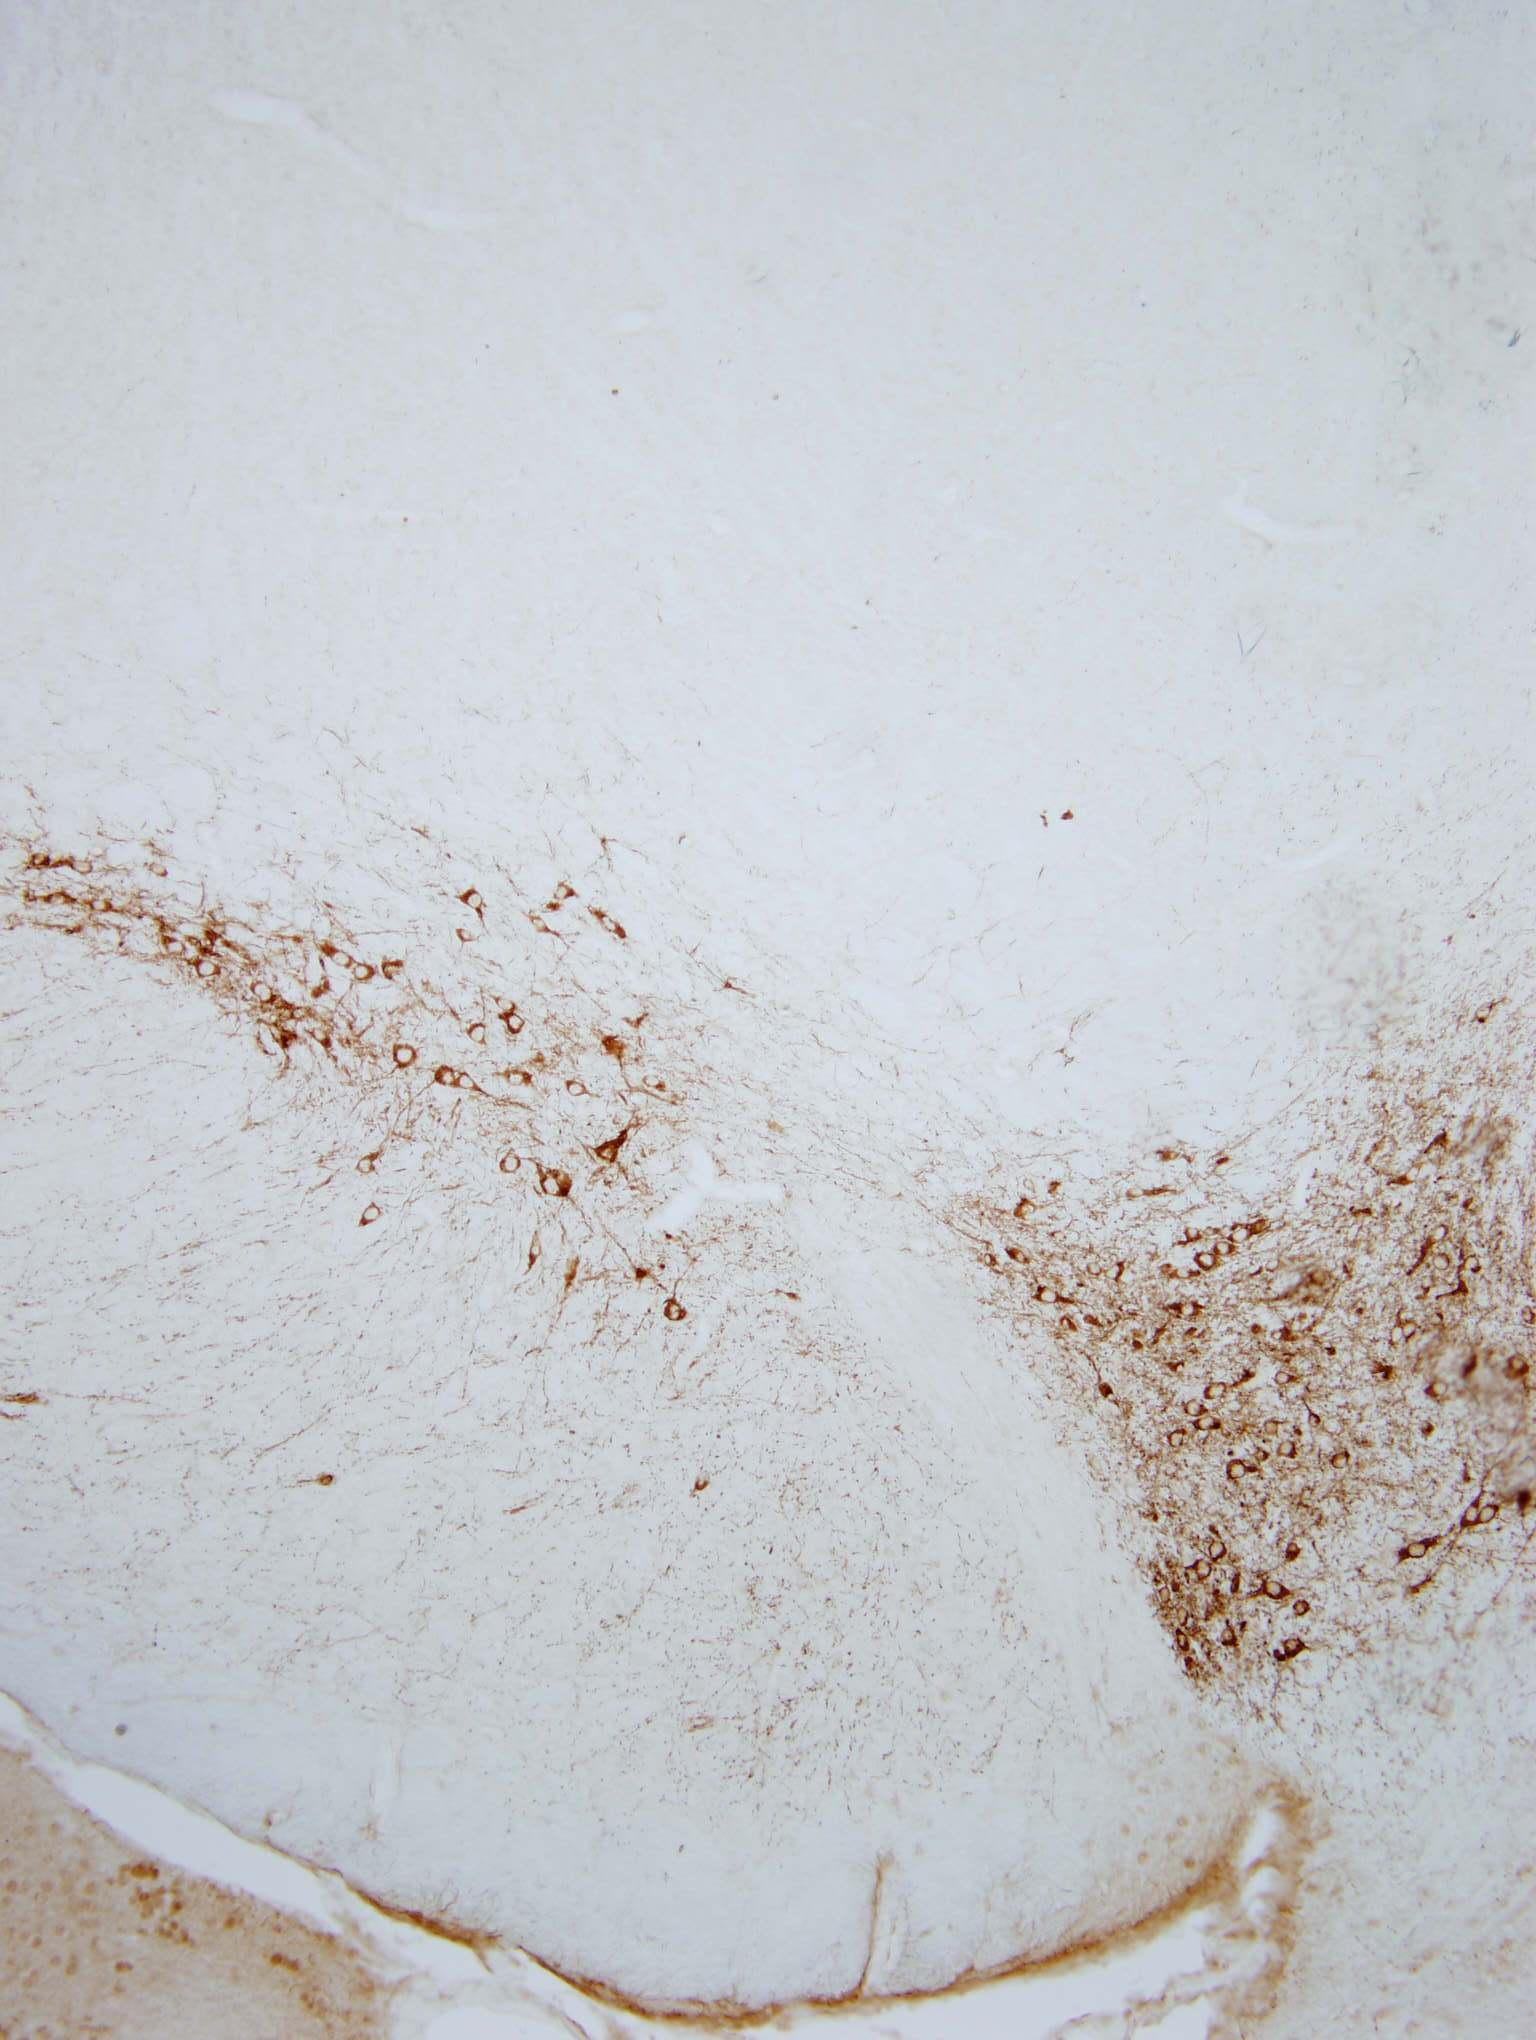neuron: (1008, 1189, 1046, 1226), (1400, 1530, 1438, 1567), (1455, 1247, 1492, 1284), (349, 955, 386, 992), (387, 1035, 424, 1072), (487, 989, 524, 1026), (1176, 1392, 1213, 1427), (1187, 1243, 1225, 1279), (1208, 1230, 1244, 1268), (1257, 1572, 1292, 1609), (1321, 1443, 1359, 1479), (1392, 1161, 1430, 1197), (1421, 1214, 1459, 1250), (1475, 1500, 1512, 1535), (157, 930, 192, 968), (349, 1147, 384, 1184), (453, 1064, 489, 1101), (461, 1014, 497, 1051), (499, 1010, 534, 1047), (520, 1234, 555, 1271), (526, 905, 561, 942), (591, 906, 628, 942), (69, 848, 105, 885), (1002, 1239, 1037, 1274), (1033, 1279, 1068, 1314), (1162, 1421, 1197, 1456), (1170, 1290, 1205, 1326), (1194, 1411, 1229, 1447), (1204, 1377, 1239, 1413), (1212, 1619, 1247, 1655), (1223, 1455, 1258, 1490), (1228, 1219, 1263, 1255), (1268, 1363, 1304, 1398), (1273, 1630, 1309, 1666), (1421, 1371, 1457, 1406), (1450, 1498, 1486, 1534), (1470, 995, 1505, 1030), (190, 951, 226, 987), (248, 974, 284, 1010), (324, 942, 360, 977), (353, 1197, 389, 1232), (40, 884, 76, 919), (431, 1061, 466, 1097), (457, 884, 492, 919), (494, 1145, 529, 1180), (500, 1063, 536, 1098), (537, 1168, 573, 1203), (561, 1071, 597, 1106), (591, 1135, 626, 1171), (658, 1297, 694, 1332), (82, 889, 118, 924), (1079, 1258, 1104, 1282), (1105, 1259, 1129, 1284), (1126, 1180, 1150, 1205), (1171, 1605, 1196, 1629), (1171, 1630, 1196, 1655), (1184, 1222, 1208, 1247), (1192, 1559, 1217, 1584), (1205, 1540, 1229, 1564), (1276, 1438, 1300, 1463), (1384, 1326, 1409, 1350), (1399, 1319, 1423, 1343), (1430, 1251, 1454, 1276), (148, 860, 173, 884), (308, 1027, 332, 1051), (553, 881, 578, 905), (691, 1474, 715, 1498), (644, 1072, 666, 1097)
